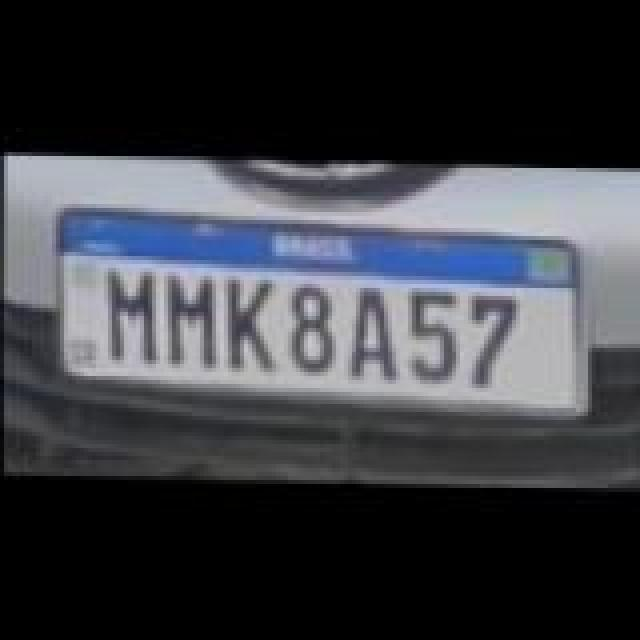5: (404, 288, 472, 384)
7: (462, 294, 526, 386)
8: (286, 286, 342, 374)
A: (344, 288, 404, 380)
K: (218, 276, 282, 372)
M: (100, 268, 168, 364), (158, 272, 222, 368)
